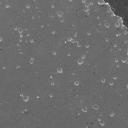corrosion: (66, 35, 76, 45), (98, 117, 106, 128), (28, 56, 35, 65), (76, 58, 84, 65), (23, 94, 30, 102), (81, 105, 88, 113), (113, 21, 121, 28), (51, 49, 58, 57), (57, 10, 64, 17), (92, 103, 99, 110), (85, 29, 92, 36), (83, 6, 90, 13), (57, 66, 63, 74), (109, 110, 115, 118), (18, 27, 24, 34), (25, 3, 31, 10), (84, 42, 90, 49), (50, 3, 56, 10), (4, 3, 10, 10), (100, 76, 105, 84), (122, 56, 127, 64), (104, 22, 110, 28), (29, 37, 34, 44), (74, 81, 80, 86), (50, 80, 55, 86), (109, 80, 114, 86), (51, 29, 56, 35), (115, 32, 121, 37), (15, 65, 21, 70), (67, 52, 71, 56)
